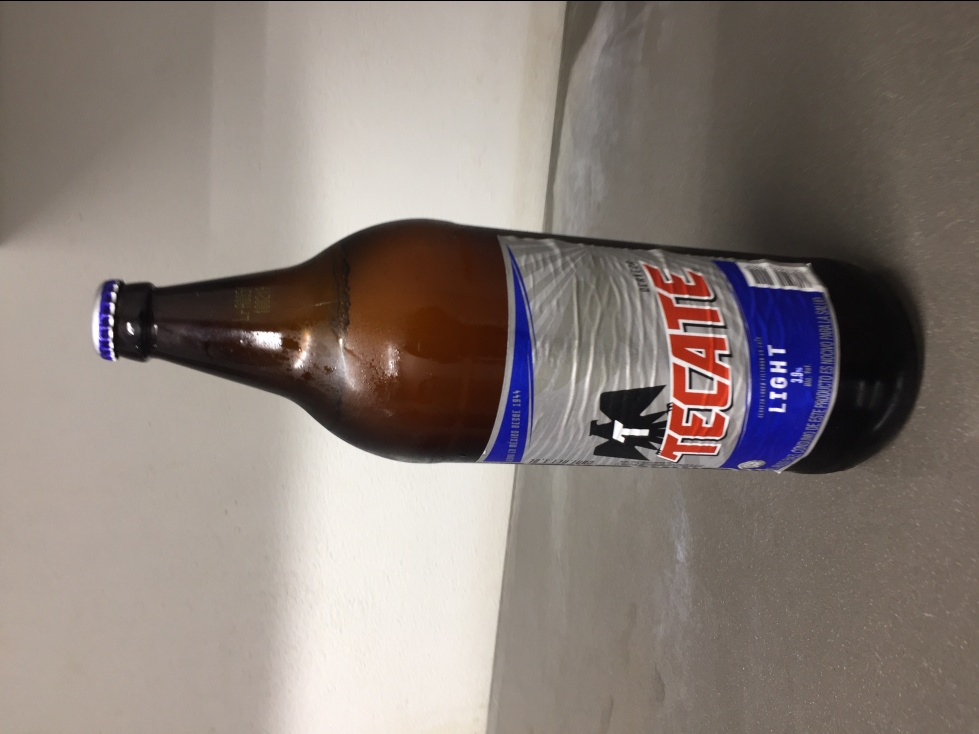tecateC: (92, 215, 923, 477)
